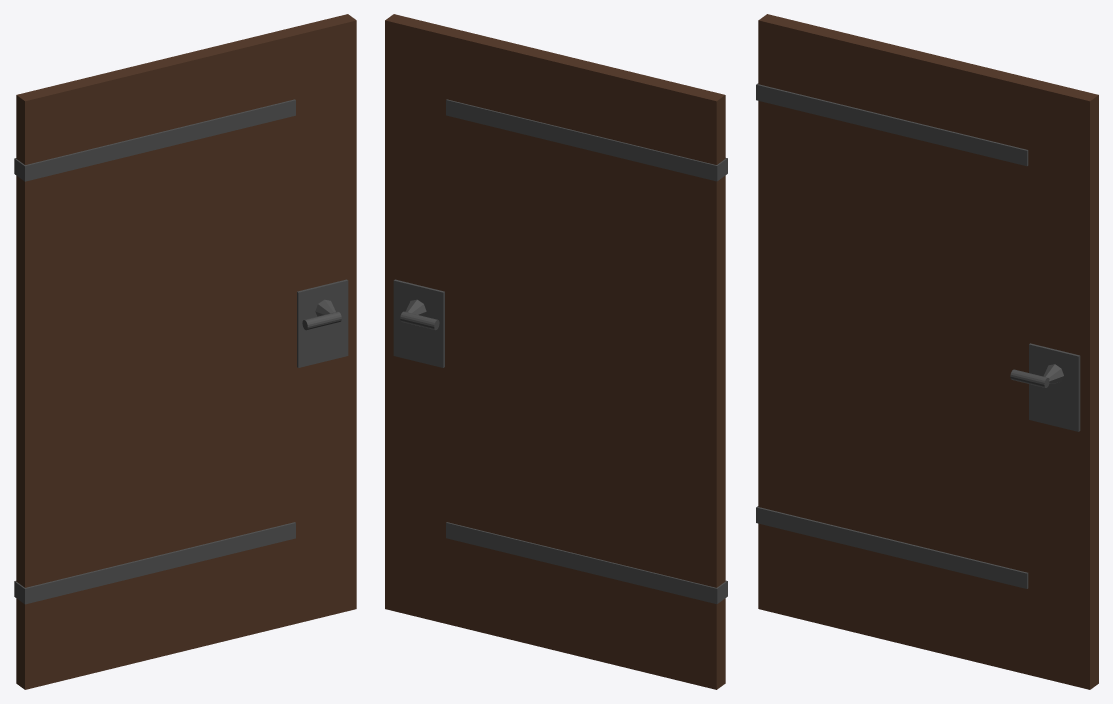
File: Door 1.fbx
The picture shows the model from 3 angles, left to right: view 1: azimuth 30°, elevation 25°; view 2: azimuth 150°, elevation 25°; view 3: azimuth 330°, elevation 25°; orthographic projection.
Parts seen in each view (by area): view 1: Cube, Plane.001, Plane, Cube.001; view 2: Cube, Plane.001, Plane, Cube.001; view 3: Cube, Plane, Plane.001, Cube.001.
Boxes of the visible parts, bbox=[...] form: Cube: bbox=[16, 14, 356, 689]; Plane.001: bbox=[14, 522, 295, 604]; Plane: bbox=[14, 99, 295, 181]; Cube.001: bbox=[297, 279, 348, 367]; Cube: bbox=[385, 14, 725, 689]; Plane.001: bbox=[446, 522, 727, 604]; Plane: bbox=[446, 99, 727, 181]; Cube.001: bbox=[393, 279, 444, 367]; Cube: bbox=[758, 14, 1098, 689]; Plane: bbox=[756, 83, 1028, 166]; Plane.001: bbox=[756, 506, 1028, 588]; Cube.001: bbox=[1029, 343, 1080, 431].
Size of the model in its own units: 326 by 550 by 66.78.
